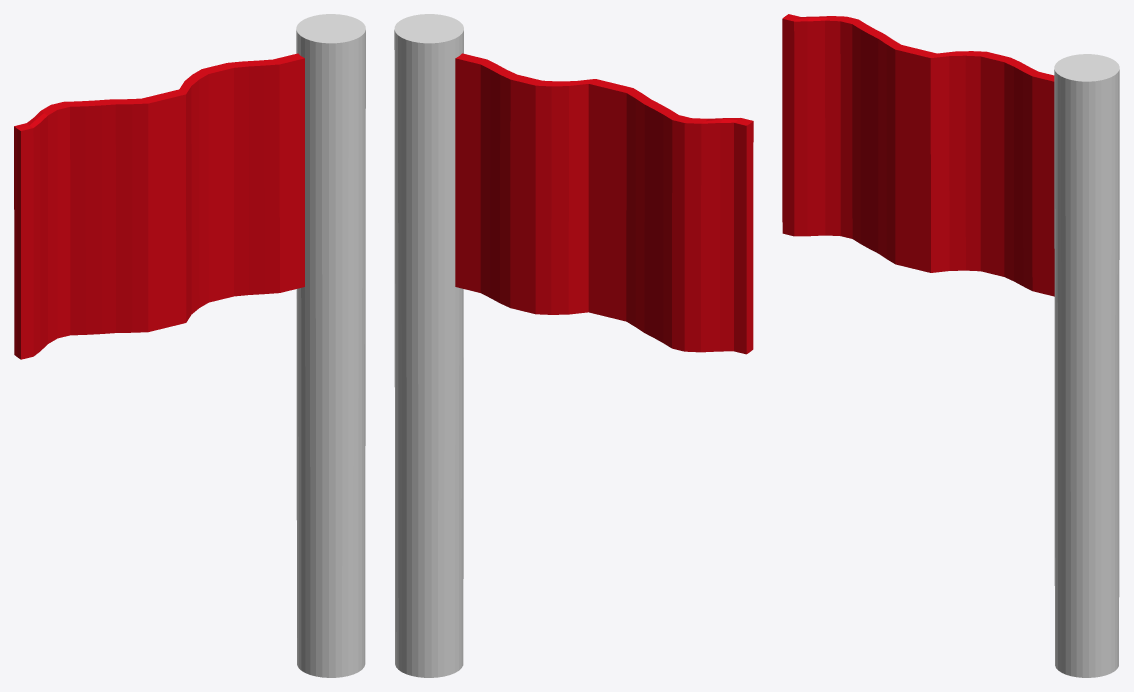
File: Red Flag.fbx
3 renders of one model, left to right at view 1: azimuth 30°, elevation 25°; view 2: azimuth 150°, elevation 25°; view 3: azimuth 330°, elevation 25°, orthographic. The views are drawn at different scales.
Parts seen in each view (by area): view 1: Red Flag; view 2: Red Flag; view 3: Red Flag.
Part boxes in pixels (box(x1,y1,x2,y2)): Red Flag: box(14, 14, 365, 677); Red Flag: box(394, 14, 753, 677); Red Flag: box(782, 14, 1119, 677).
Bounding box in the file's own units: 531 × 926 × 92.13.
